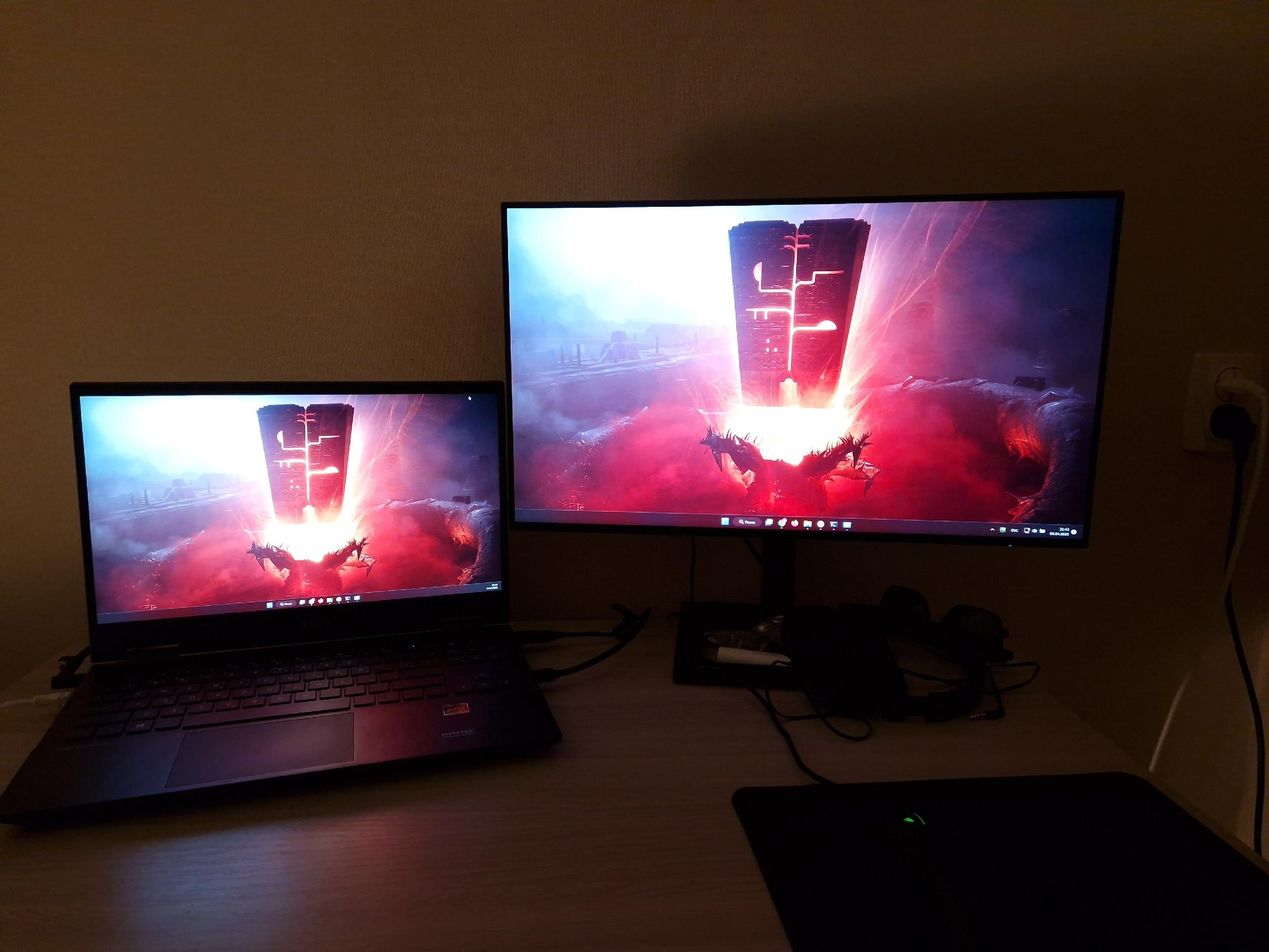monitor: (497, 187, 1129, 550), (65, 381, 516, 664)
